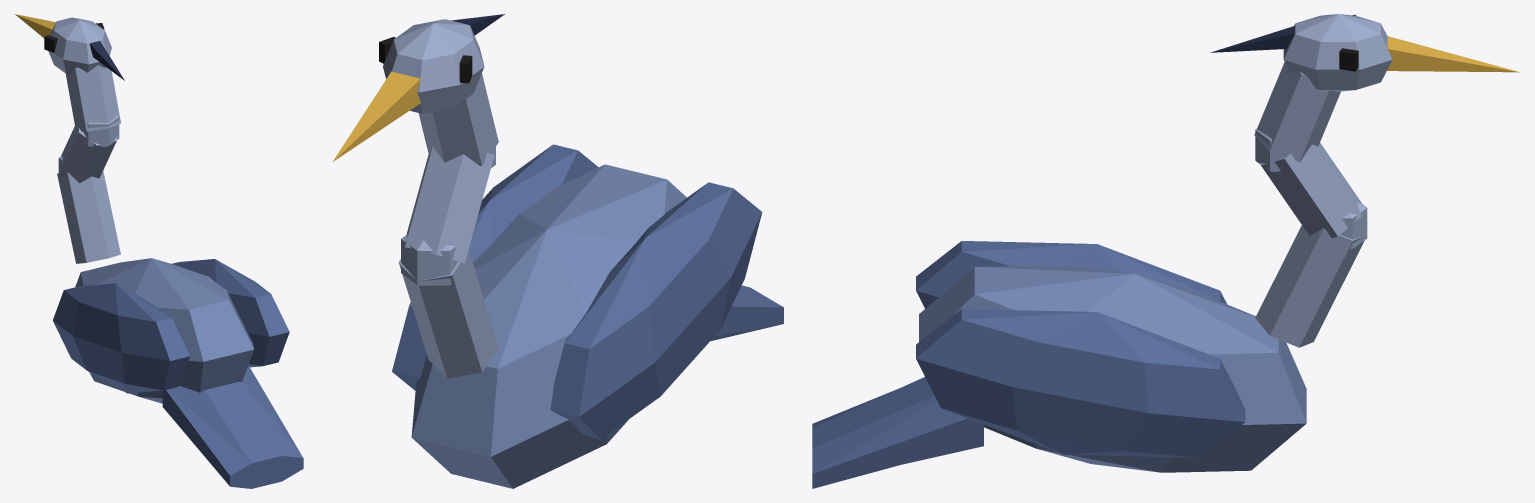
File: animal_heron.obj
3 views of the same model, side by side, from view 1: azimuth 30°, elevation 25°; view 2: azimuth 150°, elevation 25°; view 3: azimuth 270°, elevation 25° (orthographic). The views are drawn at different scales.
Visible parts, largest first — view 1: animal_heron; view 2: animal_heron; view 3: animal_heron.
Boxes of the visible parts, x1,y1,x2,y2 form: animal_heron: [15, 14, 303, 488]; animal_heron: [332, 14, 783, 488]; animal_heron: [812, 14, 1519, 488].
Bounding box in the file's own units: 0.224 × 0.4735 × 0.66.
